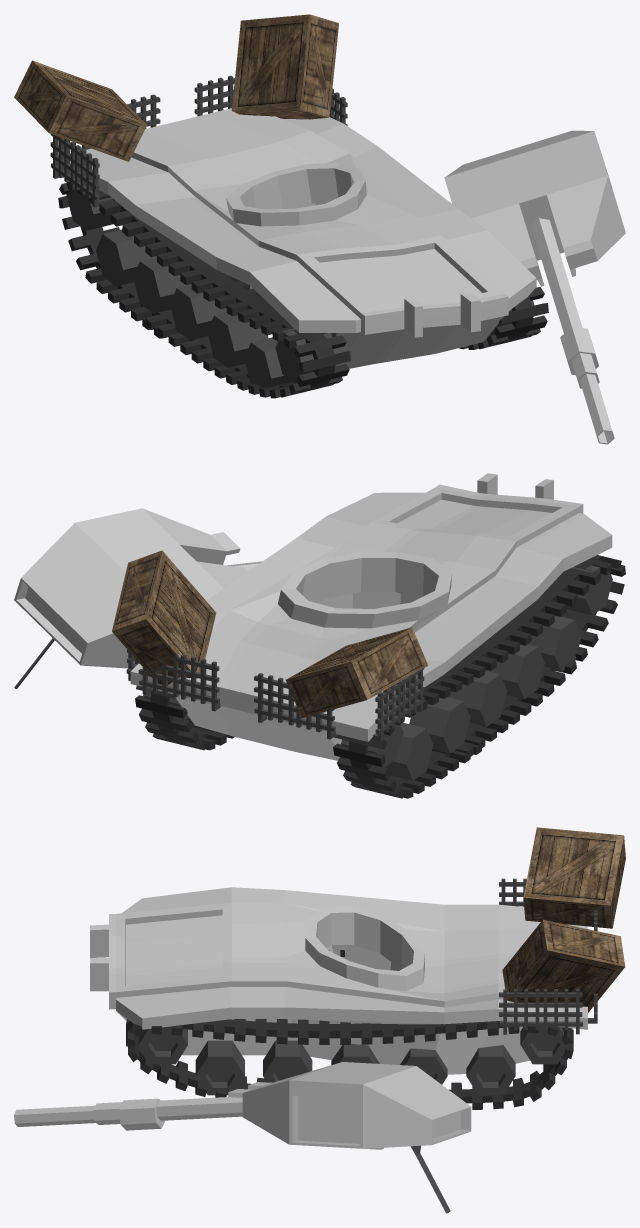
Rendered from crush_tanks.fbx.
The picture shows the model from 3 angles, top to bottom: view 1: azimuth 30°, elevation 25°; view 2: azimuth 150°, elevation 25°; view 3: azimuth 270°, elevation 25°; orthographic projection. The views are drawn at different scales.
Visible parts, largest first — view 1: Cube.010; view 2: Cube.010; view 3: Cube.010.
Part boxes in pixels (left/top/right/bottom): Cube.010: left=14, top=14, right=625, bottom=444; Cube.010: left=14, top=473, right=625, bottom=798; Cube.010: left=14, top=827, right=625, bottom=1213.
Bounding box in the file's own units: 431 × 196 × 530.
